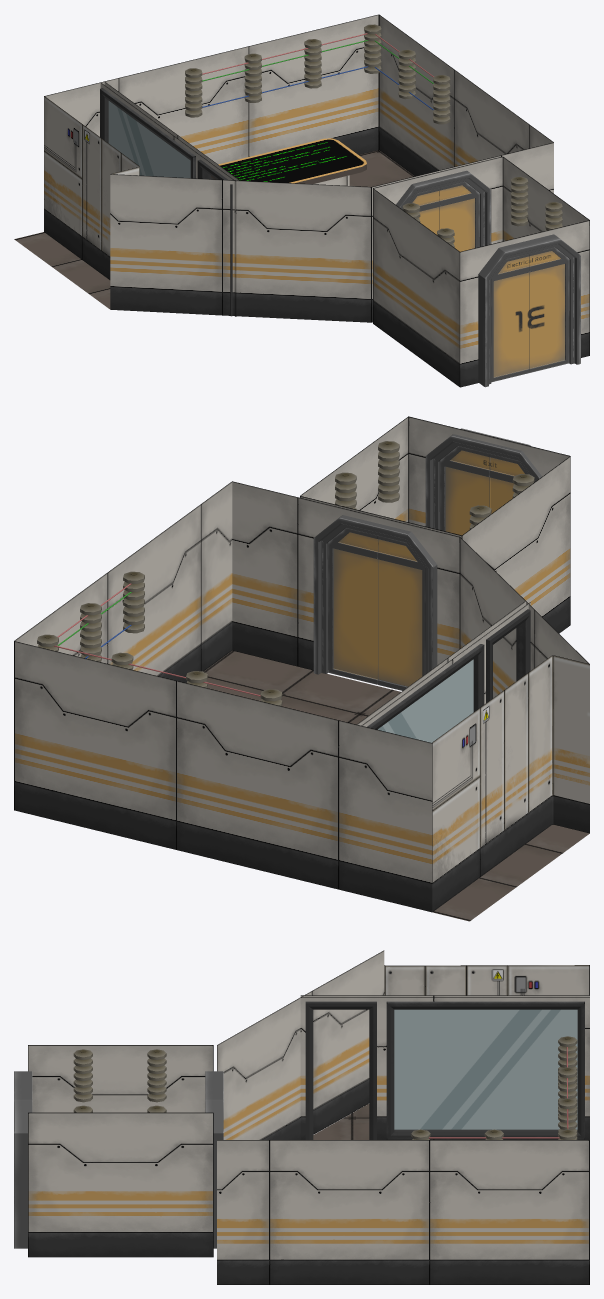
Rendered from NieuweOverloop.fbx.
3 renders of one model, top to bottom at view 1: azimuth 30°, elevation 25°; view 2: azimuth 150°, elevation 25°; view 3: azimuth 270°, elevation 25°, orthographic. The views are drawn at different scales.
Parts seen in each view (by area): view 1: Plane.009, Cube.002, Plane.010, Plane.019, Cube, Plane.020, Plane.018, Plane.008, Plane.012, Circle.004, Plane.016, Plane.014 (+6 smaller); view 2: Plane.009, Plane.010, Cube.002, Plane.008, Plane.014, Plane.015, Plane.012, Plane.013, Plane.011, Plane.016, Plane.019, Plane.018 (+6 smaller); view 3: Plane.009, Cube.002, Plane.016, Plane.012, Plane.010, Plane.018, Circle.007, Circle.004, Plane.013, Plane.008.
Boxes of the visible parts, x1,y1,x2,y2 form: Plane.009: [45, 14, 553, 322]; Cube.002: [373, 156, 589, 387]; Plane.010: [44, 96, 139, 256]; Plane.019: [529, 247, 569, 372]; Cube: [210, 138, 366, 185]; Plane.020: [491, 253, 529, 382]; Plane.018: [478, 234, 580, 387]; Plane.008: [14, 150, 414, 309]; Plane.012: [100, 82, 239, 316]; Circle.004: [185, 24, 381, 117]; Plane.016: [108, 101, 190, 178]; Plane.014: [439, 181, 479, 251]; Plane.009: [14, 481, 589, 912]; Plane.010: [432, 655, 589, 882]; Cube.002: [300, 416, 570, 633]; Plane.008: [203, 650, 589, 921]; Plane.014: [328, 528, 378, 684]; Plane.015: [377, 536, 425, 690]; Plane.012: [357, 601, 530, 729]; Plane.013: [313, 515, 437, 674]; Plane.011: [432, 795, 589, 911]; Plane.016: [378, 659, 473, 742]; Plane.019: [440, 446, 490, 535]; Plane.018: [425, 428, 541, 529]; Plane.009: [217, 950, 589, 1284]; Cube.002: [28, 1045, 213, 1257]; Plane.016: [394, 1009, 577, 1129]; Plane.012: [300, 995, 589, 1139]; Plane.010: [384, 965, 589, 995]; Plane.018: [14, 1071, 32, 1248]; Circle.007: [73, 1049, 166, 1102]; Circle.004: [558, 1036, 577, 1139]; Plane.013: [205, 1071, 223, 1248]; Plane.008: [313, 1104, 369, 1139].
Size of the model in its own units: 787 by 281 by 1009.
